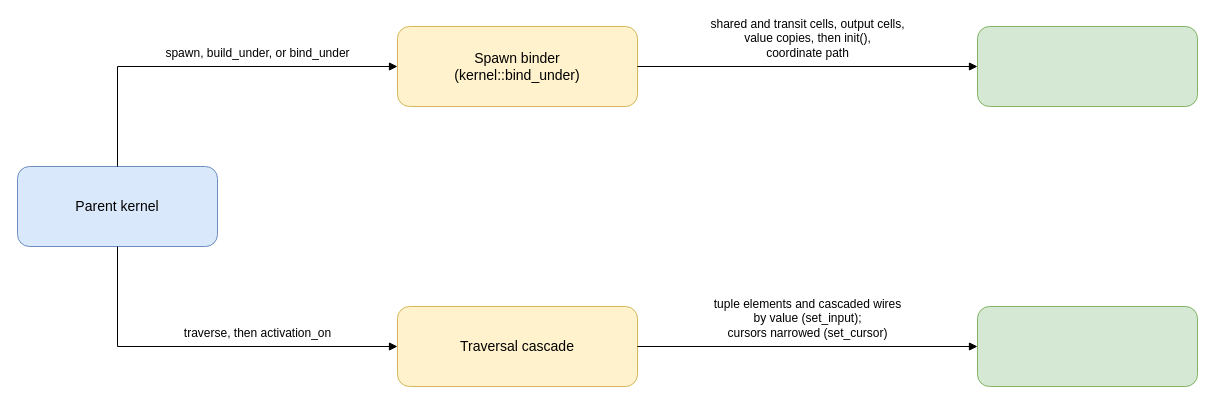
Some shapes in this 1215 by 405 pixel diagram are drawn without their labels. Each missing label, with the box of its shape:
Child on the engine the host asks for: (976, 306, 1198, 386)
Child on the parent's engine (a compiled program: on its own engine): (976, 26, 1198, 106)
